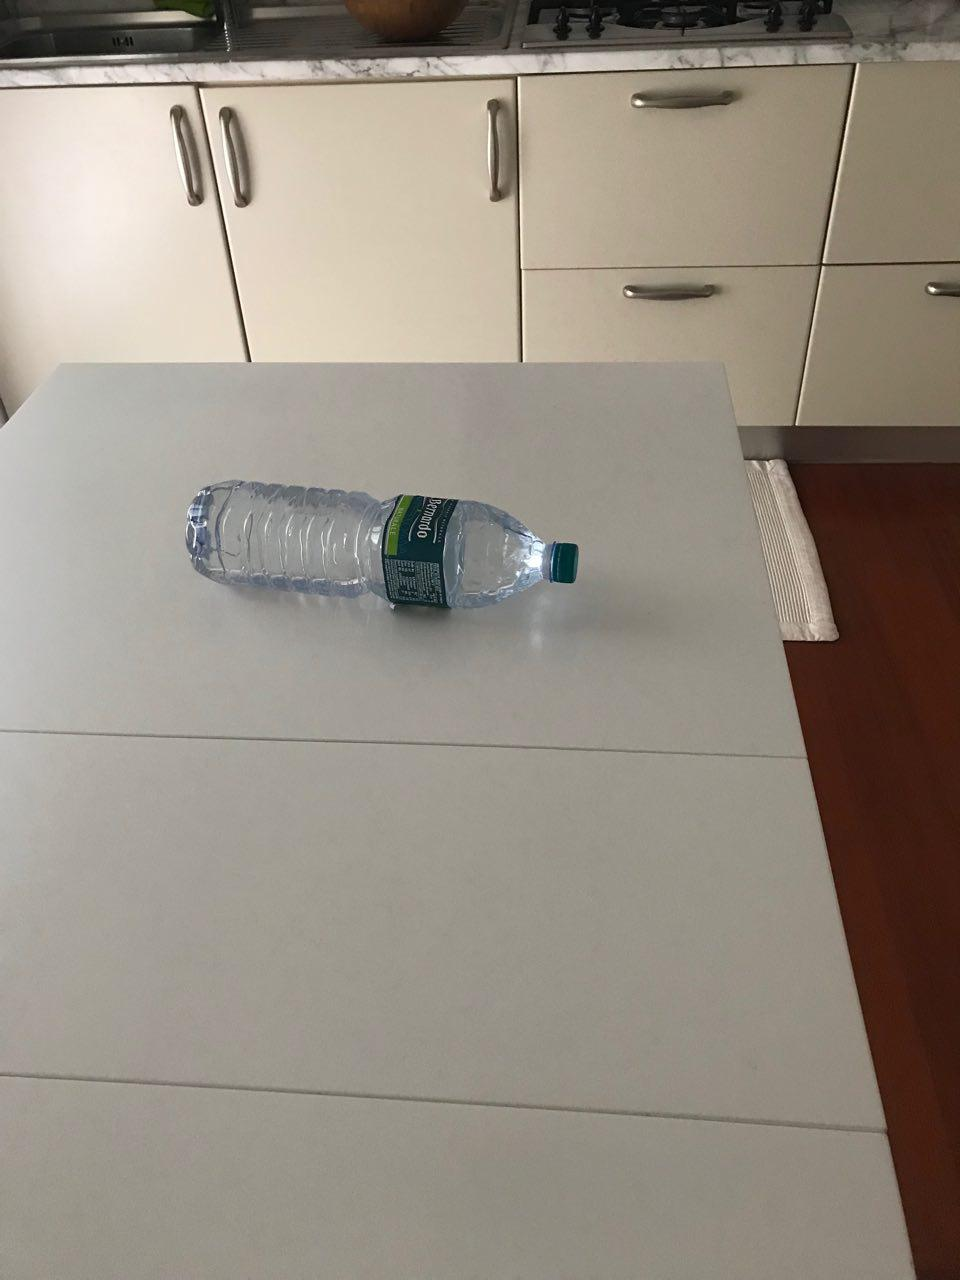san_bernardo: (184, 479, 579, 610)
